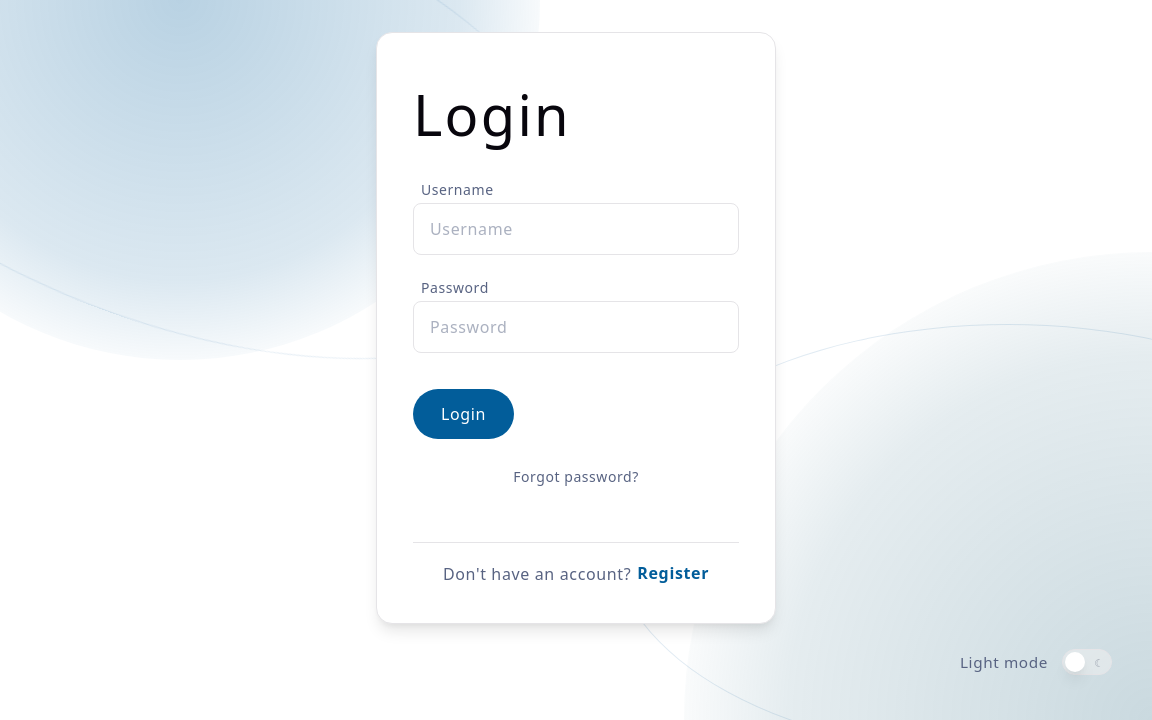
Scenario: Login › shows an error when username or password is empty
Click the button "Login". click: (464, 414)
box: [413, 389, 514, 439]
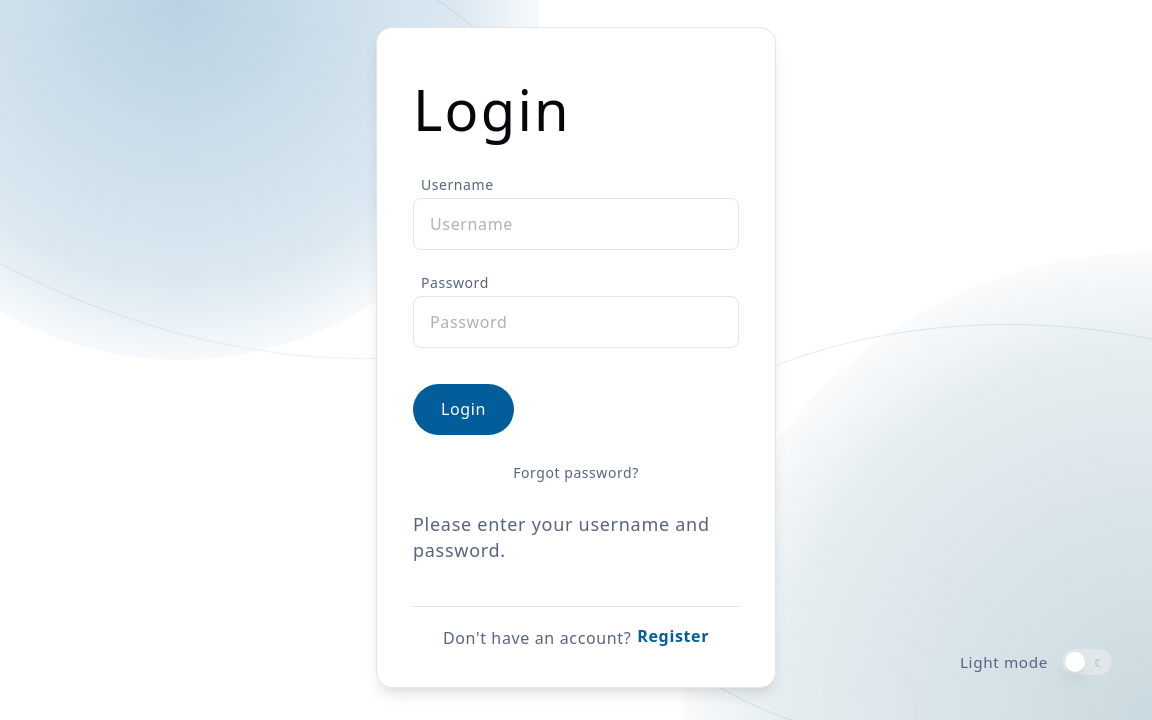
Expected: the text "Please enter your username and password." is shown, [413, 511, 739, 563]
